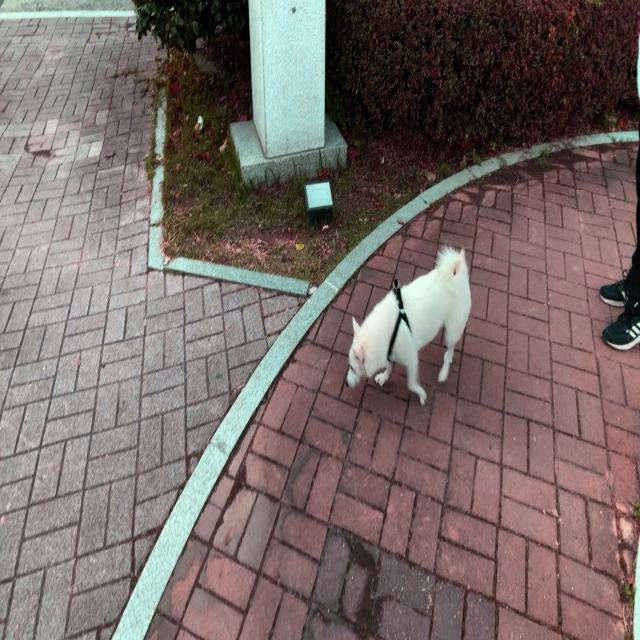Dog: (346, 246, 472, 407)
